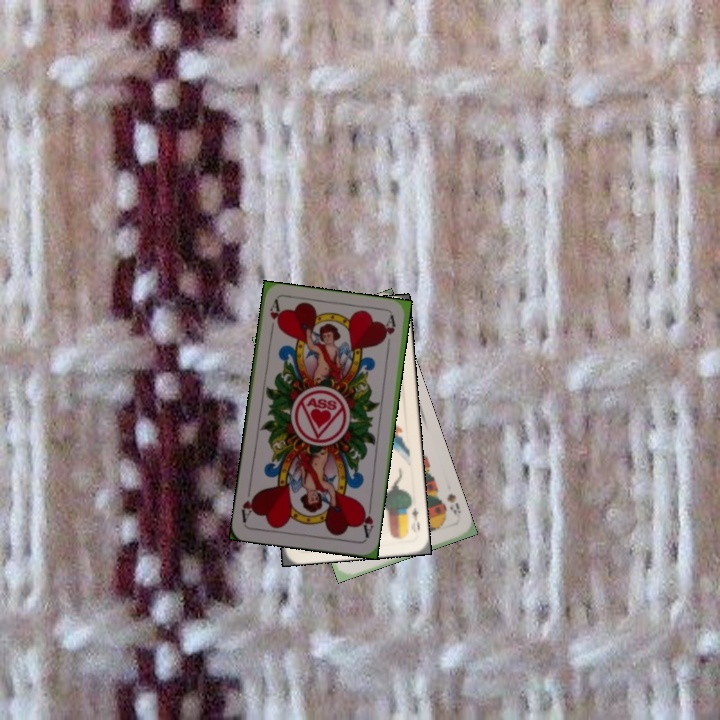EO: (403, 498, 423, 533)
HA: (356, 500, 376, 540), (266, 297, 283, 338)
S8: (442, 489, 464, 522)
